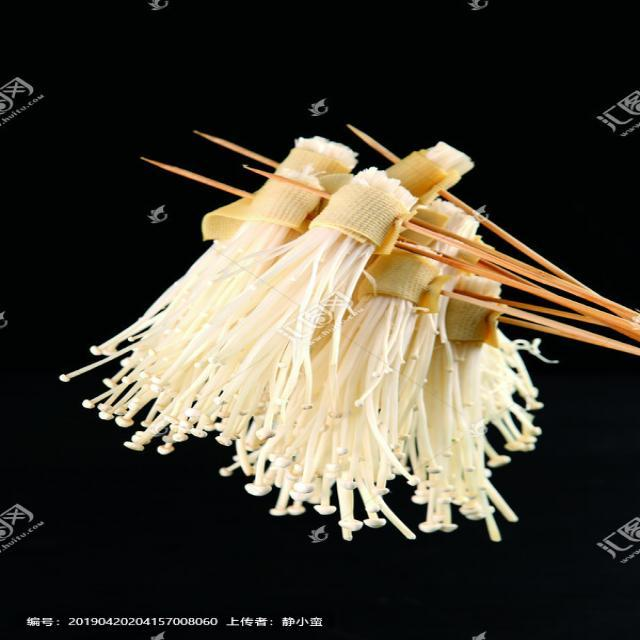Flammulina velutiper: (60, 138, 547, 537)
